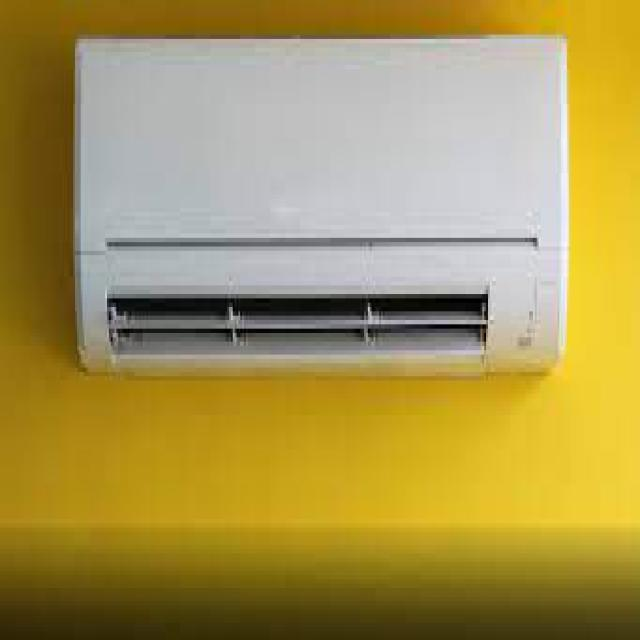ac: (77, 35, 570, 377)
